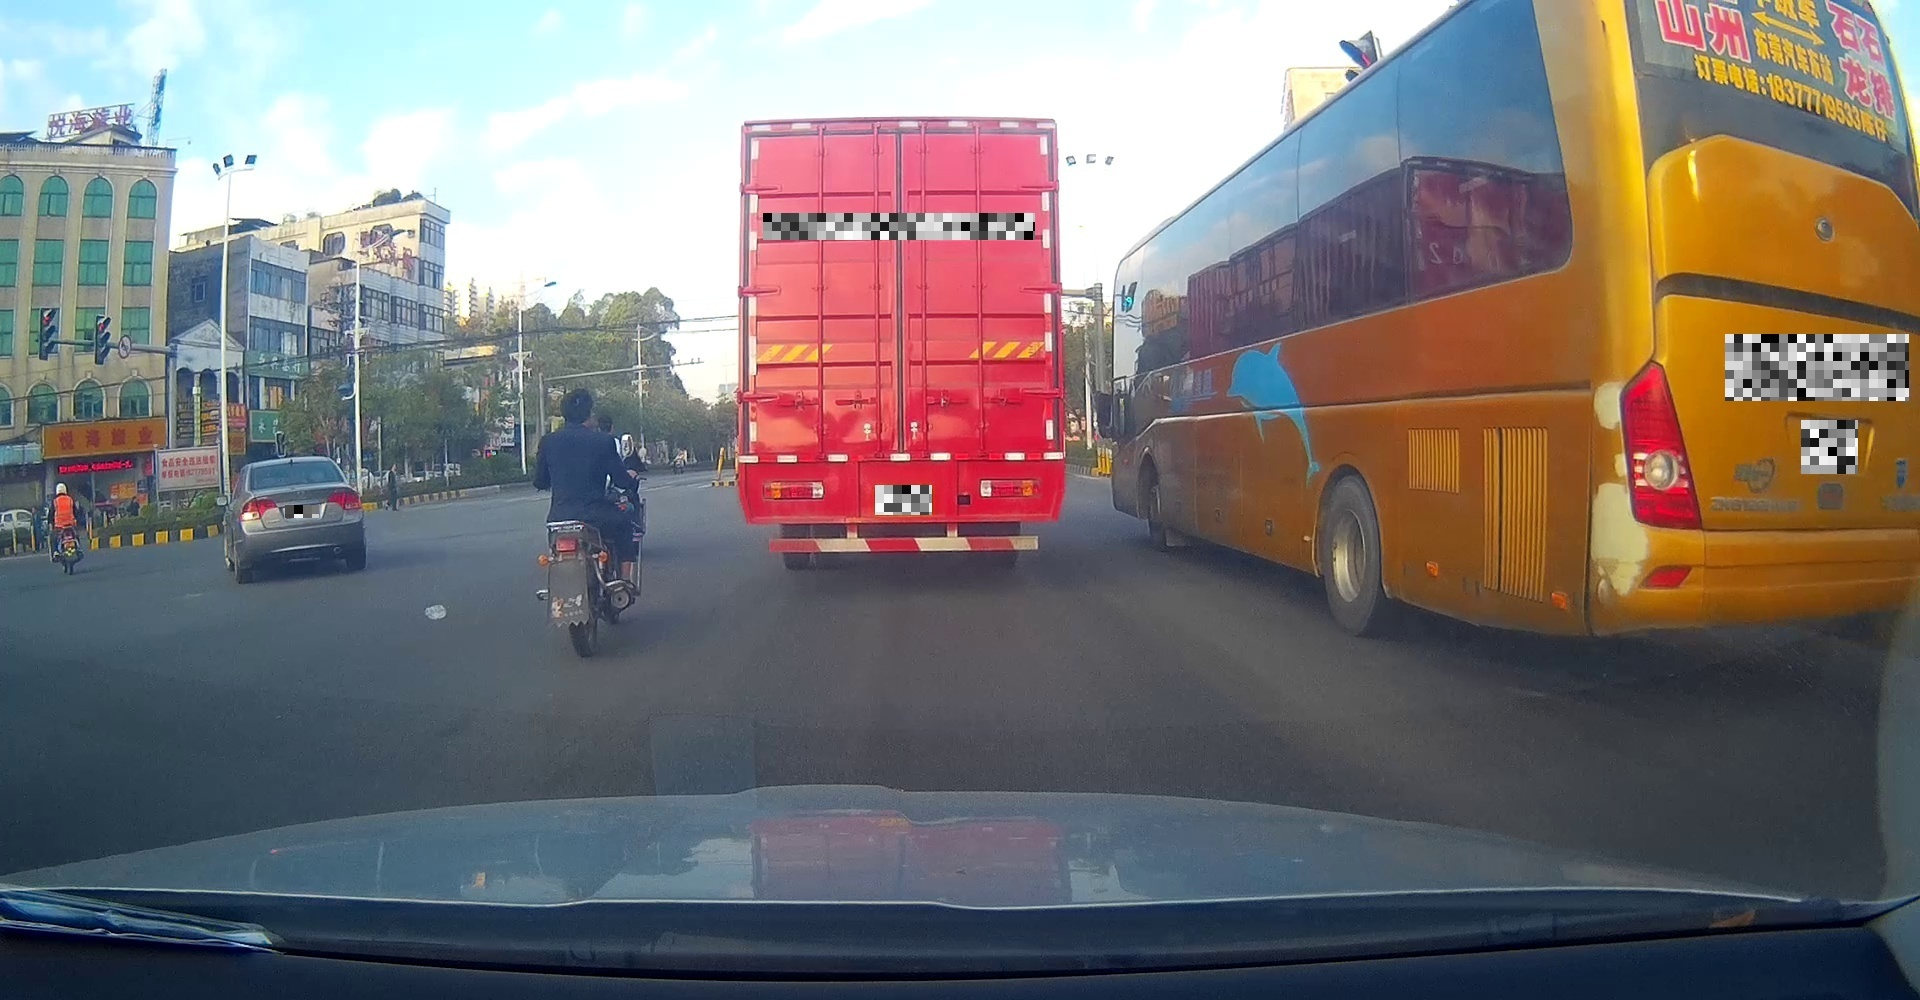L_light: (762, 480, 824, 500), (239, 495, 277, 522)
R_light: (980, 478, 1039, 497), (326, 489, 362, 509)
T_light: (872, 133, 924, 147), (282, 462, 302, 467)
day-left: (237, 457, 363, 582)
day-no: (737, 115, 1064, 571)
plate_1: (284, 505, 319, 518)
plate_2: (763, 213, 1035, 240)
plate_3: (875, 485, 932, 515)
plate_4: (1724, 334, 1909, 401)
plate_5: (1801, 420, 1858, 475)
